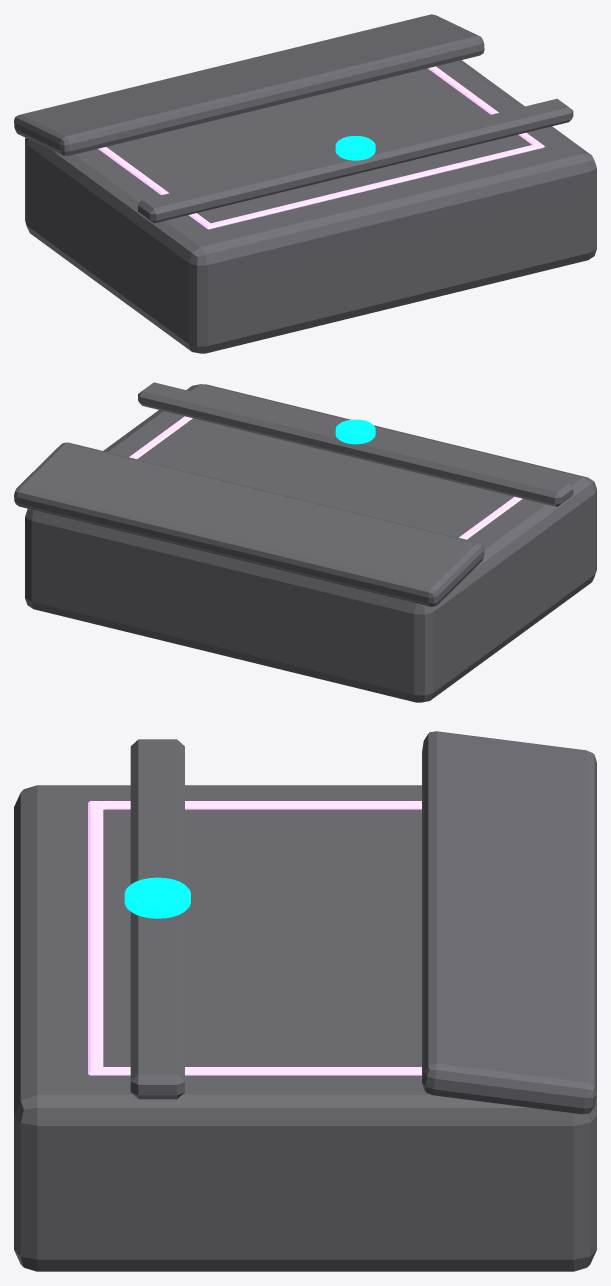
File: wallet.glb
3 renders of one model, top to bottom at view 1: azimuth 30°, elevation 25°; view 2: azimuth 150°, elevation 25°; view 3: azimuth 270°, elevation 25°, orthographic. The views are drawn at different scales.
Parts seen in each view (by area): view 1: Wallet; view 2: Wallet; view 3: Wallet.
Part boxes in pixels (box(x1,y1,x2,y2)): Wallet: box(14, 14, 596, 353); Wallet: box(14, 382, 596, 702); Wallet: box(14, 731, 596, 1271).
Size of the model in its own units: 2.08 by 0.6425 by 1.5.
